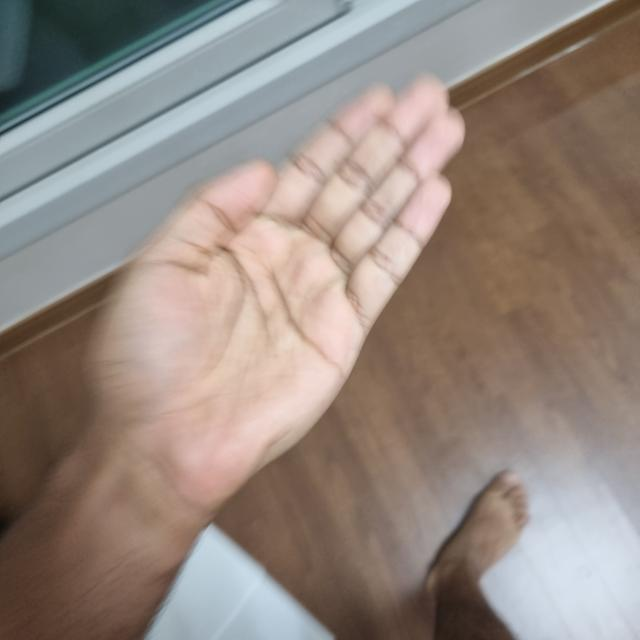Paper: (106, 171, 358, 490)
